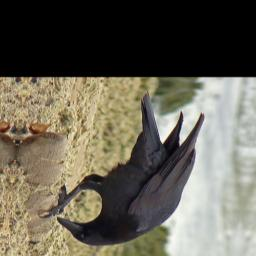Crow: (33, 86, 208, 251)
